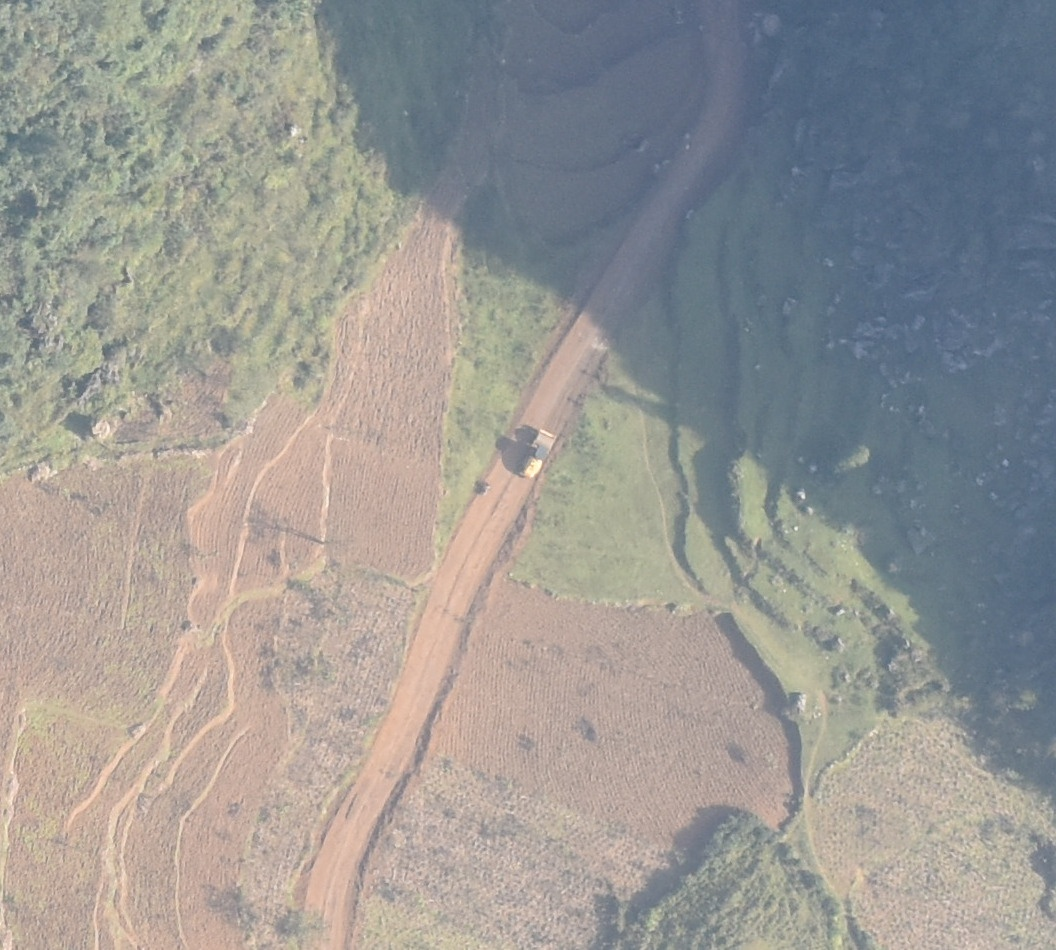vehicle: (516, 430, 560, 479)
